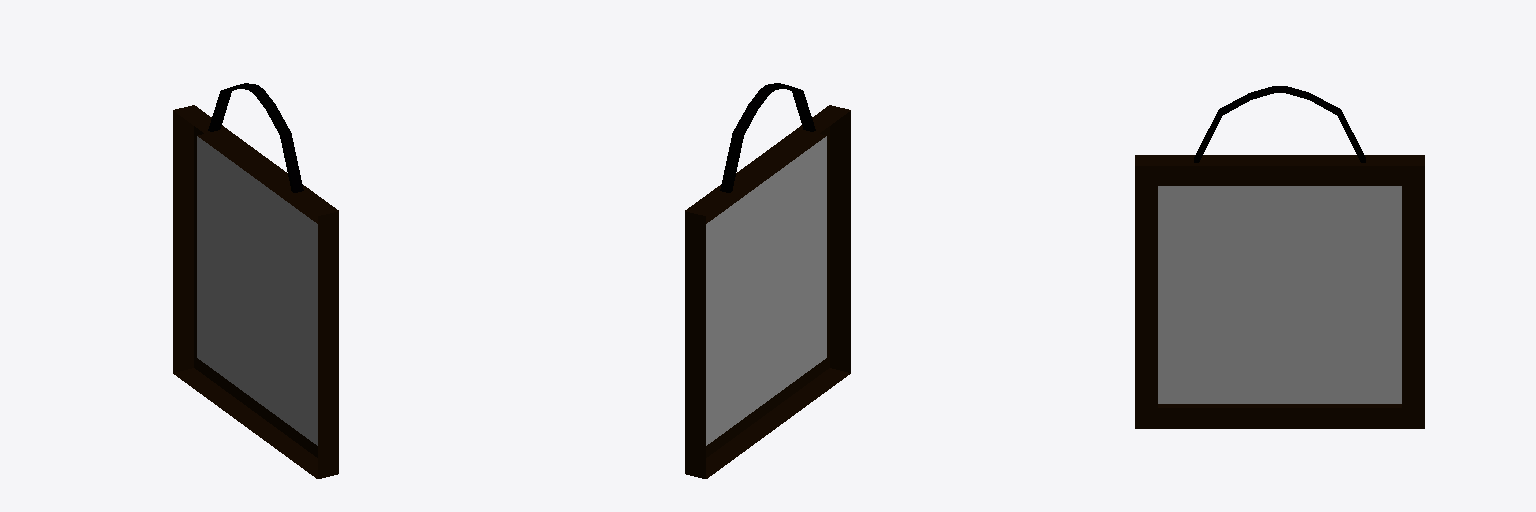
The model's file is Picture.obj.
The picture shows the model from 3 angles: view 1: azimuth 30°, elevation 25°; view 2: azimuth 150°, elevation 25°; view 3: azimuth 270°, elevation 25°; orthographic projection.
Visible parts, largest first — view 1: Куб.029_Куб.036; view 2: Куб.029_Куб.036; view 3: Куб.029_Куб.036.
Part boxes in pixels (left/top/right/bottom): Куб.029_Куб.036: left=173, top=83, right=338, bottom=478; Куб.029_Куб.036: left=685, top=83, right=850, bottom=478; Куб.029_Куб.036: left=1135, top=86, right=1424, bottom=428.
Bounding box in the file's own units: 0.1631 × 2.4 × 1.88.